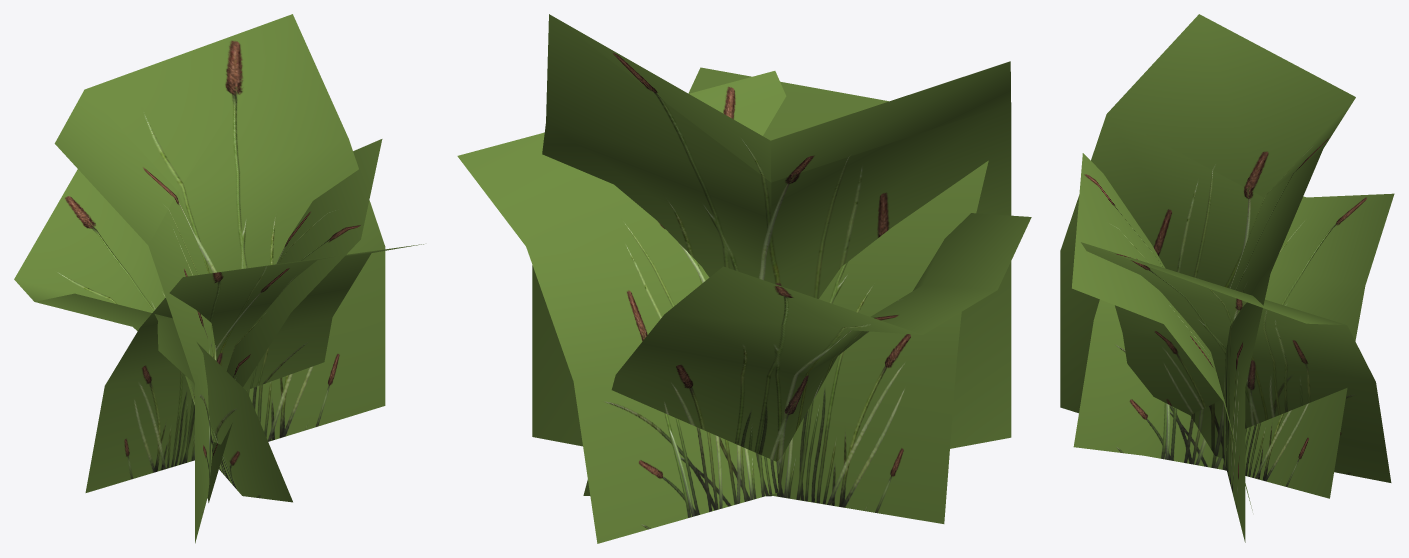
The model's file is cattail_lod0.fbx.
The picture shows the model from 3 angles, left to right: view 1: azimuth 30°, elevation 25°; view 2: azimuth 150°, elevation 25°; view 3: azimuth 270°, elevation 25°; orthographic projection. The views are drawn at different scales.
Parts seen in each view (by area): view 1: Mesh Object; view 2: Mesh Object; view 3: Mesh Object.
Part boxes in pixels (box(x1,y1,x2,y2)): Mesh Object: box(14, 14, 423, 543); Mesh Object: box(457, 14, 1031, 543); Mesh Object: box(1060, 14, 1394, 542).
Size of the model in its own units: 2.37 by 2.27 by 1.8.
